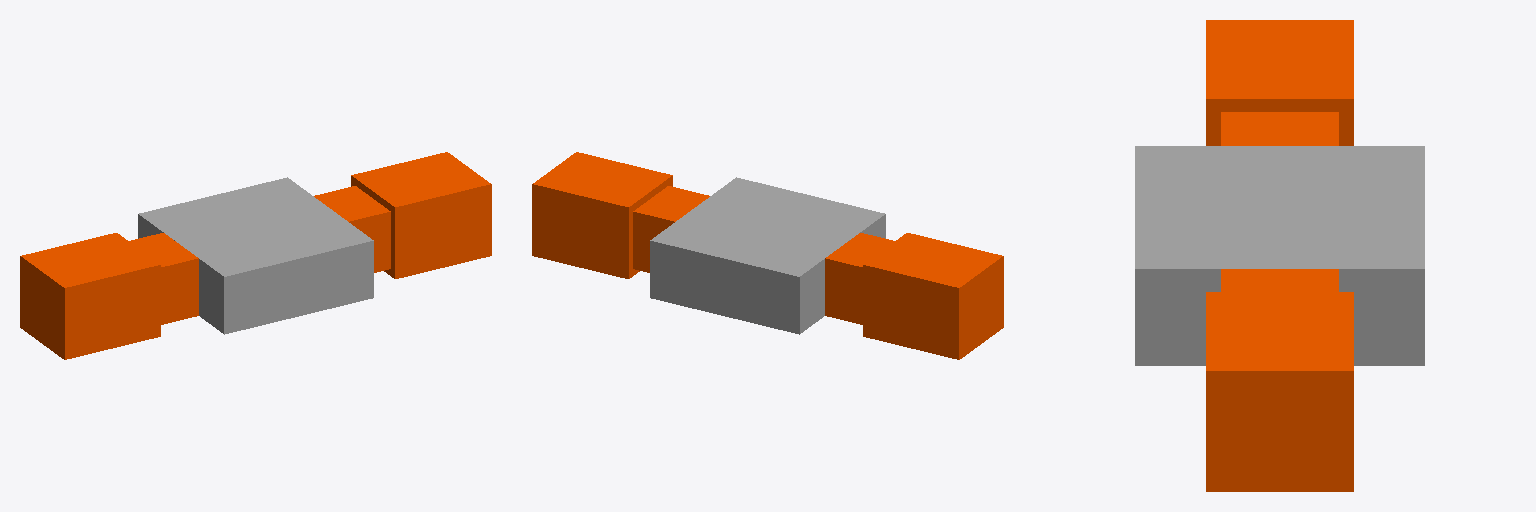
The robot description file, URDF, robot "modular_robot":
<?xml version="1.0" ?>
<!-- =================================================================================== -->
<!-- |    This document was autogenerated by xacro from [local-path]/Developer/thesis/edhmor_genesis/urdf/modular_robot.urdf.xacro | -->
<!-- |    EDITING THIS FILE BY HAND IS NOT RECOMMENDED                                 | -->
<!-- =================================================================================== -->
<robot name="modular_robot">
  <link name="flat_base_link">
    <inertial>
      <origin rpy="0 0 0" xyz="0 0 0"/>
      <mass value="0.65"/>
      <inertia ixx="0.0013730107369875001" ixy="0.0" ixz="0.0" iyy="0.0013730107369875001" iyz="0.0" izz="0.0024180390000000003"/>
    </inertial>
    <visual>
      <origin rpy="0 0 0" xyz="0 0 0"/>
      <geometry>
        <box size="0.0747 0.0747 0.0275115"/>
      </geometry>
      <material name="grey">
        <color rgba="0.7 0.7 0.7 1.0"/>
      </material>
    </visual>
    <collision>
      <origin rpy="0 0 0" xyz="0 0 0"/>
      <geometry>
        <box size="0.1494 0.1494 0.055023"/>
      </geometry>
    </collision>
  </link>
  <link name="emerge_plus_connector_link">
    <visual>
      <origin rpy="0 0 0" xyz="0 0 0"/>
      <geometry>
        <box size="0.0385 0.0305 0.0275"/>
      </geometry>
      <material name="orange">
        <color rgba="1 0.4 0 1"/>
      </material>
    </visual>
    <collision>
      <origin rpy="0 0 0" xyz="0 0 0"/>
      <geometry>
        <box size="0.061 0.055 0.077"/>
      </geometry>
    </collision>
    <inertial>
      <origin rpy="0 0 0" xyz="0 0 0"/>
      <mass value="0.06"/>
      <inertia ixx="0.00006" ixy="0" ixz="0" iyy="0.00005" iyz="0" izz="0.00007"/>
    </inertial>
  </link>
  <link name="emerge_plus_motor_link">
    <visual>
      <origin rpy="0 0 0" xyz="0 0 0"/>
      <geometry>
        <box size="0.048125 0.038125 0.034375"/>
      </geometry>
      <material name="orange">
        <color rgba="1 0.4 0 1"/>
      </material>
    </visual>
    <collision>
      <origin rpy="0 0 0" xyz="0 0 0"/>
      <geometry>
        <box size="0.061 0.055 0.077"/>
      </geometry>
    </collision>
    <inertial>
      <origin rpy="0 0 0" xyz="0 0 0"/>
      <mass value="0.06"/>
      <inertia ixx="0.00006" ixy="0" ixz="0" iyy="0.00005" iyz="0" izz="0.00007"/>
    </inertial>
  </link>
  <joint name="emerge_plus_joint" type="revolute">
    <parent link="emerge_plus_connector_link"/>
    <child link="emerge_plus_motor_link"/>
    <origin rpy="0 0 0" xyz="0.03 0 0"/>
    <axis xyz="0 1 0"/>
    <limit effort="0.5" lower="-0.12" upper="0.12" velocity="2.0"/>
  </joint>
  <link name="emerge_minus_connector_link">
    <visual>
      <origin rpy="0 0 0" xyz="0 0 0"/>
      <geometry>
        <box size="0.0385 0.0305 0.0275"/>
      </geometry>
      <material name="orange">
        <color rgba="1 0.4 0 1"/>
      </material>
    </visual>
    <collision>
      <origin rpy="0 0 0" xyz="0 0 0"/>
      <geometry>
        <box size="0.061 0.055 0.077"/>
      </geometry>
    </collision>
    <inertial>
      <origin rpy="0 0 0" xyz="0 0 0"/>
      <mass value="0.06"/>
      <inertia ixx="0.00006" ixy="0" ixz="0" iyy="0.00005" iyz="0" izz="0.00007"/>
    </inertial>
  </link>
  <link name="emerge_minus_motor_link">
    <visual>
      <origin rpy="0 0 0" xyz="0 0 0"/>
      <geometry>
        <box size="0.048125 0.038125 0.034375"/>
      </geometry>
      <material name="orange">
        <color rgba="1 0.4 0 1"/>
      </material>
    </visual>
    <collision>
      <origin rpy="0 0 0" xyz="0 0 0"/>
      <geometry>
        <box size="0.061 0.055 0.077"/>
      </geometry>
    </collision>
    <inertial>
      <origin rpy="0 0 0" xyz="0 0 0"/>
      <mass value="0.06"/>
      <inertia ixx="0.00006" ixy="0" ixz="0" iyy="0.00005" iyz="0" izz="0.00007"/>
    </inertial>
  </link>
  <joint name="emerge_minus_joint" type="revolute">
    <parent link="emerge_minus_connector_link"/>
    <child link="emerge_minus_motor_link"/>
    <origin rpy="0 0 0" xyz="0.03 0 0"/>
    <axis xyz="0 1 0"/>
    <limit effort="0.5" lower="-0.12" upper="0.12" velocity="2.0"/>
  </joint>
  <!-- +X side -->
  <joint name="joint_x_plus" type="fixed">
    <parent link="flat_base_link"/>
    <child link="emerge_plus_connector_link"/>
    <origin rpy="0 0 0" xyz="0.0526 0 0"/>
  </joint>
  <!-- -X side -->
  <joint name="joint_x_minus" type="fixed">
    <parent link="flat_base_link"/>
    <child link="emerge_minus_connector_link"/>
    <origin rpy="0 0 3.141592653589793" xyz="-0.0526 0 0"/>
  </joint>
</robot>

--- What the picture shows (computed from the rendered views, not written in the file) ---
3 views of the same robot in one strip: view 1: azimuth 30°, elevation 25°; view 2: azimuth 150°, elevation 25°; view 3: azimuth 270°, elevation 25° (orthographic).
Model modular_robot with 5 links and 4 joints (2 revolute, 2 fixed), rooted at flat_base_link, posed every joint at zero.
Visible links, largest first — view 1: flat_base_link, emerge_minus_motor_link, emerge_plus_motor_link, emerge_minus_connector_link, emerge_plus_connector_link; view 2: flat_base_link, emerge_minus_motor_link, emerge_plus_motor_link, emerge_minus_connector_link, emerge_plus_connector_link; view 3: flat_base_link, emerge_plus_motor_link, emerge_minus_motor_link, emerge_minus_connector_link, emerge_plus_connector_link.
Boxes of the visible links, <box> form: flat_base_link: <box>138,177,373,334</box>; emerge_minus_motor_link: <box>20,233,160,359</box>; emerge_plus_motor_link: <box>351,152,491,278</box>; emerge_minus_connector_link: <box>129,233,198,324</box>; emerge_plus_connector_link: <box>314,186,390,272</box>; flat_base_link: <box>650,177,885,334</box>; emerge_minus_motor_link: <box>863,233,1003,359</box>; emerge_plus_motor_link: <box>532,152,672,278</box>; emerge_minus_connector_link: <box>825,233,894,324</box>; emerge_plus_connector_link: <box>633,186,709,272</box>; flat_base_link: <box>1135,146,1424,365</box>; emerge_plus_motor_link: <box>1206,292,1353,491</box>; emerge_minus_motor_link: <box>1206,20,1353,145</box>; emerge_minus_connector_link: <box>1221,112,1338,145</box>; emerge_plus_connector_link: <box>1221,269,1338,291</box>.
Bounding box of the posed robot: 0.2133 × 0.0747 × 0.0344 m (x, y, z).
Geometry: primitives only (box / cylinder / sphere), no mesh files.
